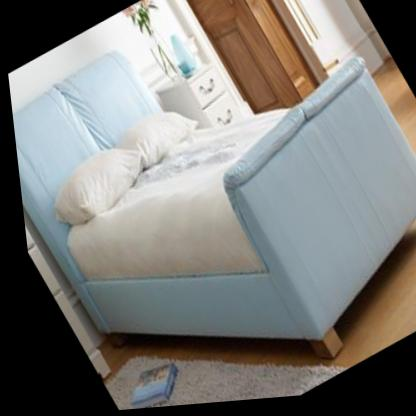Bed: (0, 0, 416, 416)
Wooden floor: (327, 263, 416, 374), (371, 61, 416, 162)
